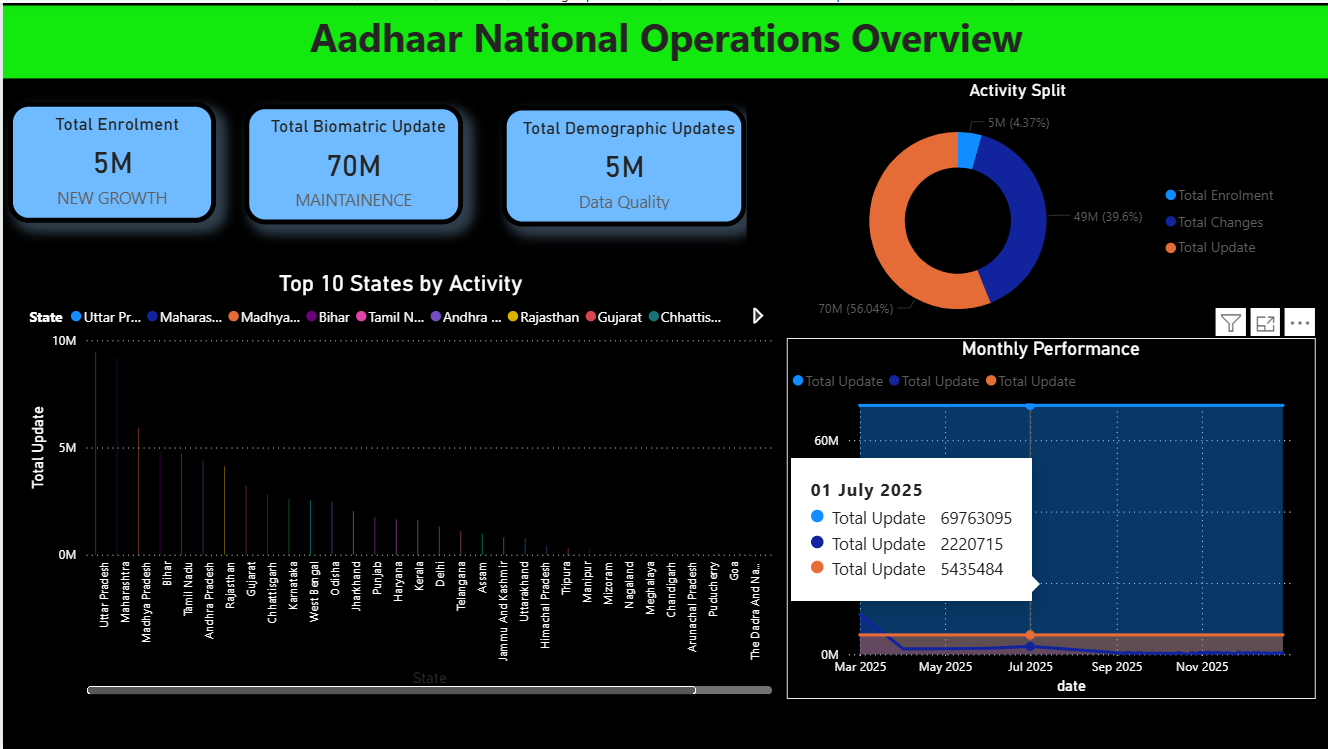

Layout of this report page (visuals, bound fields, positions):
{"tool":"powerbi","page":{"name":"Page 1","canvas":[1280,720],"ordinal":0},"visuals":[{"type":"card","title":"Total Enrolment","fields":{"Values":["Sum(enrolment_dataset.total_enrolment)"]},"box":[5,95.6,201.2,116.7],"z":0},{"type":"card","title":"Total Biomatric Update","fields":{"Values":["Sum(biomatric_dataset.total_update)"]},"box":[233.4,97.1,211,116.1],"z":1000},{"type":"card","title":"Total Demographic Updates","fields":{"Values":["Sum(enrolment_dataset.total_enrolment)"]},"box":[481.8,99.3,235.9,116.7],"z":2000},{"type":"textbox","box":[0,2.5,1280.3,70.8],"z":3000},{"type":"donutChart","title":"Activity Split","fields":{"Y":["Sum(enrolment_dataset.total_enrolment)","Sum(demographic_dataset.total_changes)","Sum(biomatric_dataset.total_update)"]},"box":[718,73,523,254],"z":4000},{"type":"clusteredColumnChart","title":"Top 10 States by Activity","fields":{"Category":["Master_District_List.State"],"Series":["Master_District_List.State"],"Y":["Sum(biomatric_dataset.total_update)"]},"box":[20,258,727,414],"z":5000},{"type":"areaChart","title":"Monthly Performance","fields":{"Y":["Sum(biomatric_dataset.total_update)","Sum(demographic_dataset.total_changes)","Sum(enrolment_dataset.total_enrolment)"],"Category":["demographic_dataset.date"]},"box":[757,323,510,349],"z":6000},{"type":"pageNavigator","box":[444.5,681.7,459.5,38.5],"z":7000}]}

Visuals, with their boxes in screenshot pixels (x1, y1, x2, y2), scaled from the page's 1280x720 canvas onto the 1328x749 screenshot:
"Total Enrolment" card: [left=5, top=99, right=214, bottom=221]
"Total Biomatric Update" card: [left=242, top=101, right=461, bottom=222]
"Total Demographic Updates" card: [left=500, top=103, right=745, bottom=225]
textbox: [left=0, top=3, right=1327, bottom=76]
"Activity Split" donutChart: [left=745, top=76, right=1288, bottom=340]
"Top 10 States by Activity" clusteredColumnChart: [left=21, top=268, right=775, bottom=699]
"Monthly Performance" areaChart: [left=785, top=336, right=1315, bottom=699]
pageNavigator: [left=461, top=709, right=938, bottom=748]
